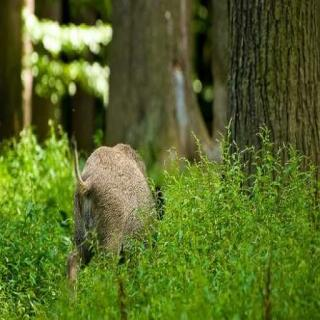Pig: (47, 127, 167, 273)
